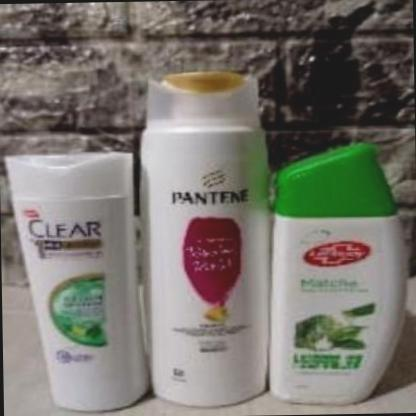objects: (136, 64, 271, 405), (262, 141, 416, 410), (5, 145, 146, 408)
